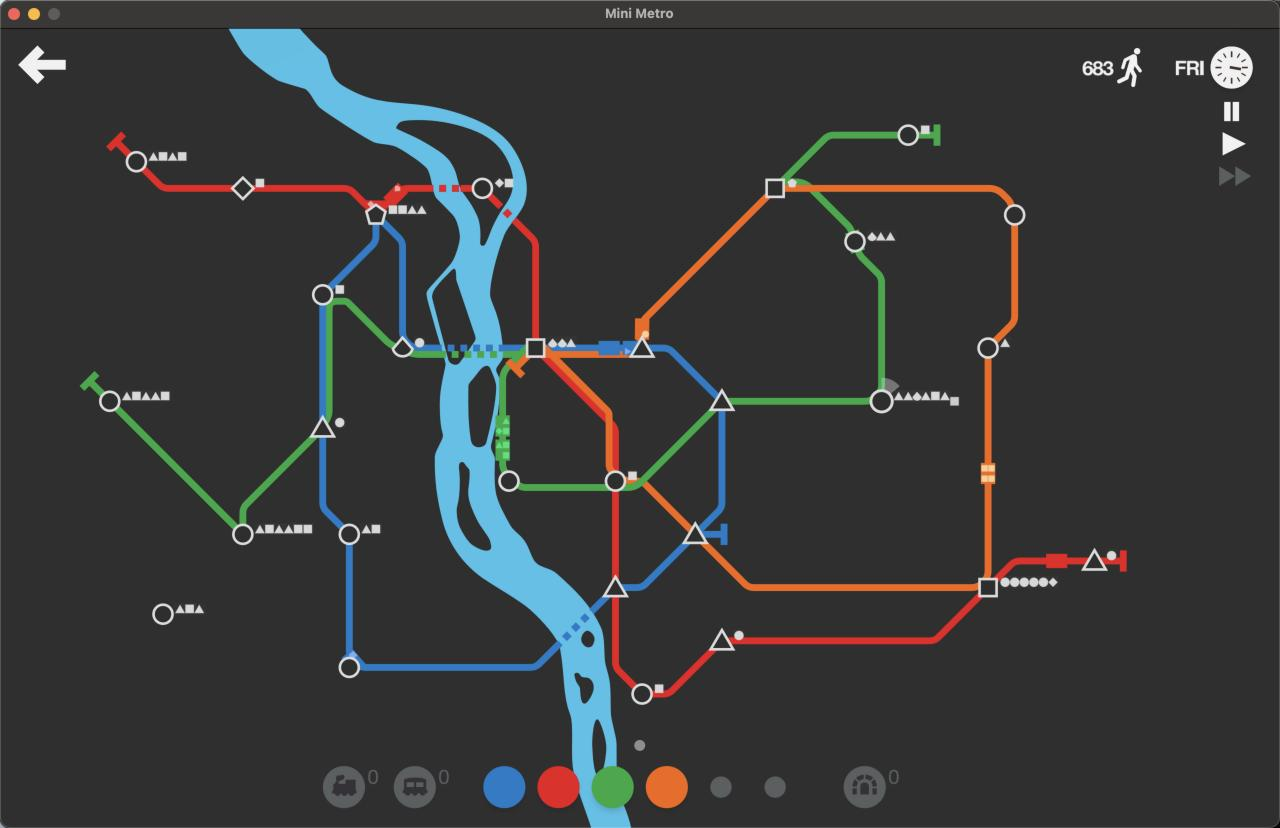CIRCLE: (869, 388, 894, 414), (977, 336, 1000, 360), (338, 655, 361, 679), (125, 150, 148, 173), (471, 177, 494, 200), (631, 682, 654, 705), (152, 603, 174, 626), (897, 123, 919, 146), (99, 390, 121, 413), (311, 283, 333, 306), (844, 231, 866, 254), (1004, 204, 1026, 227), (232, 523, 254, 545), (338, 523, 360, 545), (605, 469, 627, 491), (498, 470, 520, 492)
GEM: (231, 176, 255, 200)
PENTAGON: (364, 203, 386, 225)
SQUARE: (525, 337, 546, 358), (765, 178, 785, 199), (979, 577, 999, 597)
TRIANGLE: (1080, 547, 1109, 572), (627, 334, 655, 359), (709, 627, 737, 652), (309, 415, 336, 439), (681, 520, 708, 544), (709, 388, 735, 412), (603, 575, 629, 597)
WEDGE: (392, 336, 414, 358)
